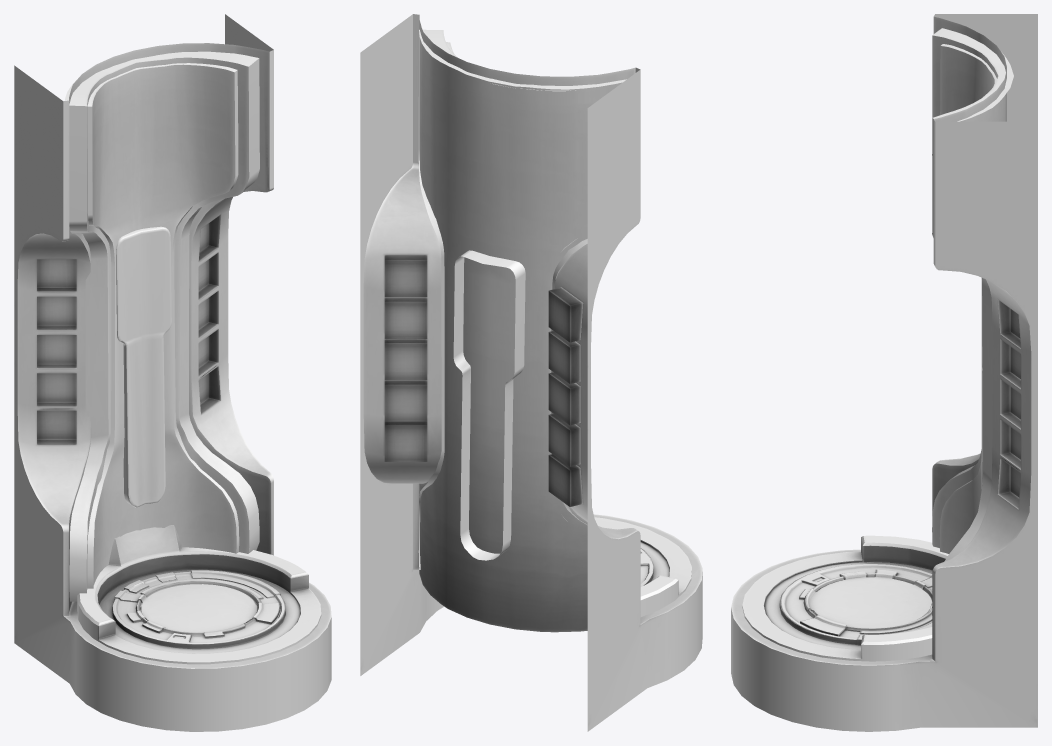
File: asset.gltf
3 views of the same model, side by side, from view 1: azimuth 30°, elevation 25°; view 2: azimuth 150°, elevation 25°; view 3: azimuth 270°, elevation 25° (orthographic). The views are drawn at different scales.
Parts seen in each view (by area): view 1: cryo_LOD0; view 2: cryo_LOD0; view 3: cryo_LOD0.
Boxes of the visible parts, x1,y1,x2,y2 form: cryo_LOD0: (14, 14, 331, 731); cryo_LOD0: (360, 14, 702, 731); cryo_LOD0: (731, 14, 1037, 731).
Bounding box in the file's own units: 111 × 268 × 123.
Materials: 1 (1 with a texture image).
